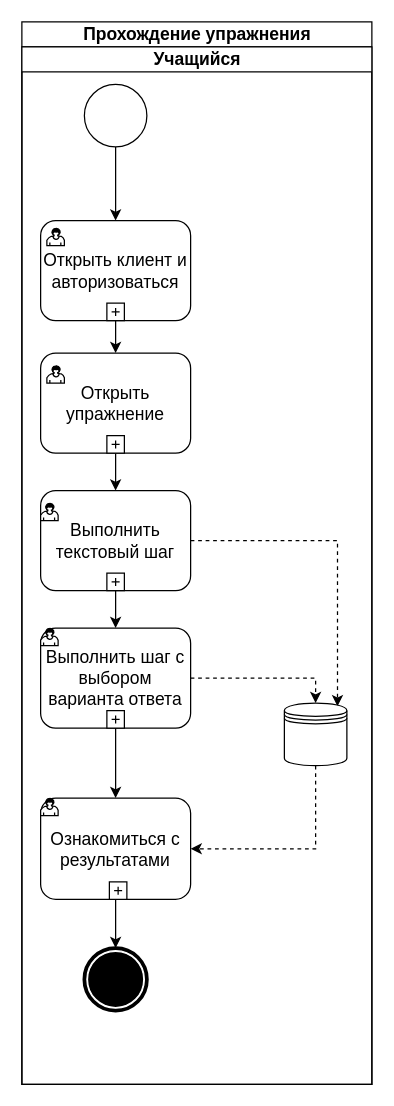
Image size: 394x1106. Some labels were removed from this diagram. Each missing label, with the centre of its shape:
Данные о прохождении: point 315,734
Упражнение завершено: point 115,979
Учащемуся необходимо пройти упражнение: point 115,115
